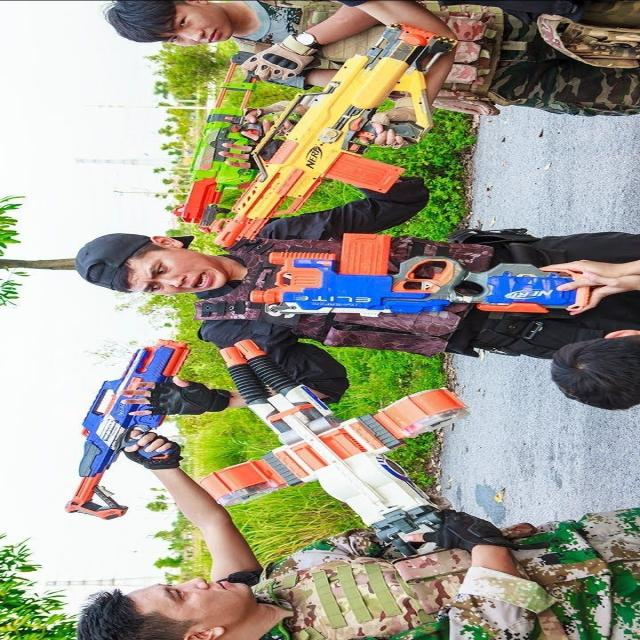Nerf gun: (198, 337, 474, 586), (196, 19, 456, 250), (240, 225, 574, 326), (53, 334, 201, 526), (166, 48, 275, 230)
